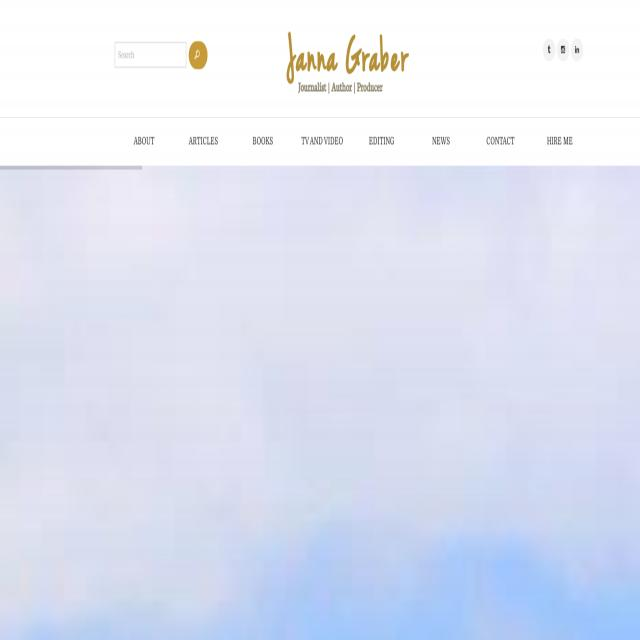button: (243, 31, 452, 104), (530, 118, 590, 166), (114, 118, 174, 166), (173, 118, 233, 166), (233, 118, 293, 166), (292, 118, 352, 166), (411, 118, 471, 166), (471, 118, 530, 166), (352, 118, 411, 166), (189, 42, 207, 70), (543, 39, 555, 61), (557, 39, 569, 61), (571, 39, 583, 61)
field: (114, 42, 187, 68)
